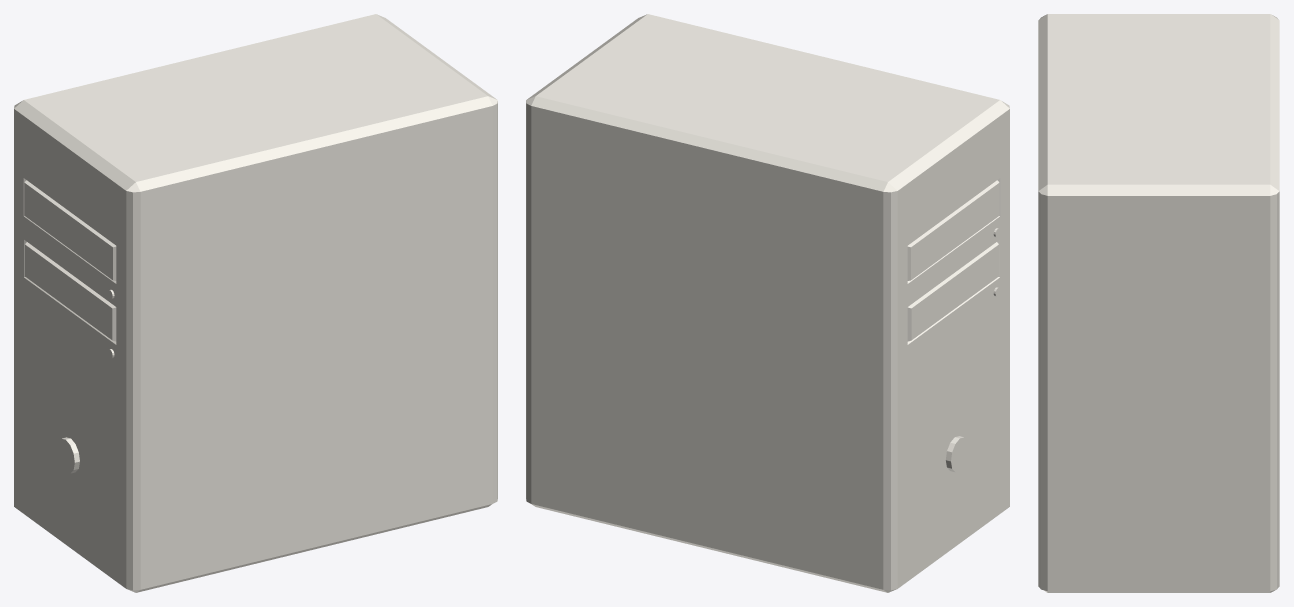
The model's file is Computer.fbx.
3 views of the same model, side by side, from view 1: azimuth 30°, elevation 25°; view 2: azimuth 150°, elevation 25°; view 3: azimuth 270°, elevation 25° (orthographic).
Parts seen in each view (by area): view 1: computer; view 2: computer; view 3: computer.
Boxes of the visible parts, box(x1,y1,x2,y2) form: computer: box(14, 14, 497, 592); computer: box(526, 14, 1009, 592); computer: box(1038, 14, 1279, 592).
Bounding box in the file's own units: 1.03 × 1.08 × 0.5767.
